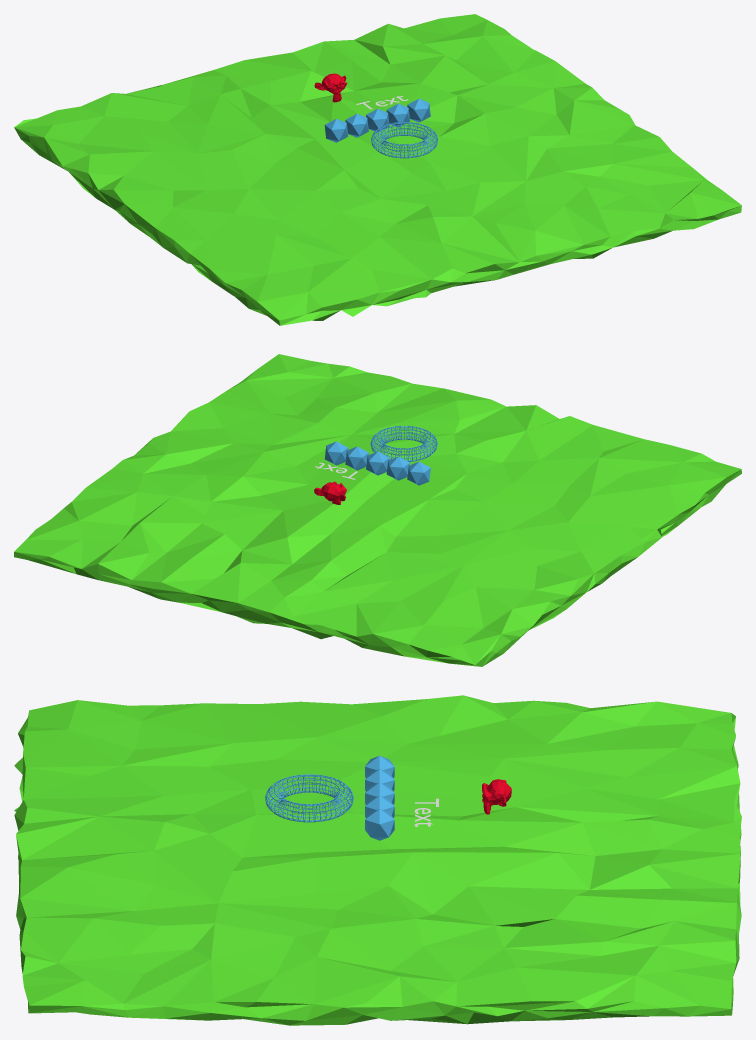
3 renders of one model, top to bottom at view 1: azimuth 30°, elevation 25°; view 2: azimuth 150°, elevation 25°; view 3: azimuth 270°, elevation 25°, orthographic. The views are drawn at different scales.
Visible parts, largest first — view 1: Cube, Icosphere, Torus, Suzanne; view 2: Cube, Icosphere, Torus; view 3: Cube, Torus, Icosphere, Suzanne.
Boxes of the visible parts, box(x1,y1,x2,y2) form: Cube: box(14, 14, 741, 325); Icosphere: box(324, 98, 430, 142); Torus: box(371, 122, 438, 158); Suzanne: box(314, 73, 347, 102); Cube: box(14, 354, 741, 666); Icosphere: box(324, 441, 430, 485); Torus: box(370, 426, 437, 461); Cube: box(14, 695, 741, 1025); Torus: box(265, 774, 353, 822); Icosphere: box(365, 755, 394, 840); Suzanne: box(482, 779, 511, 814).
Bounding box in the file's own units: 2071 × 335 × 2069.
